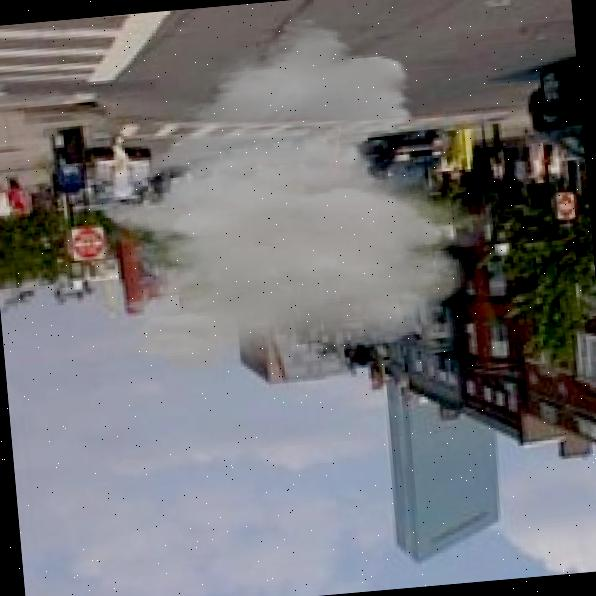smoke: (83, 0, 520, 380)
